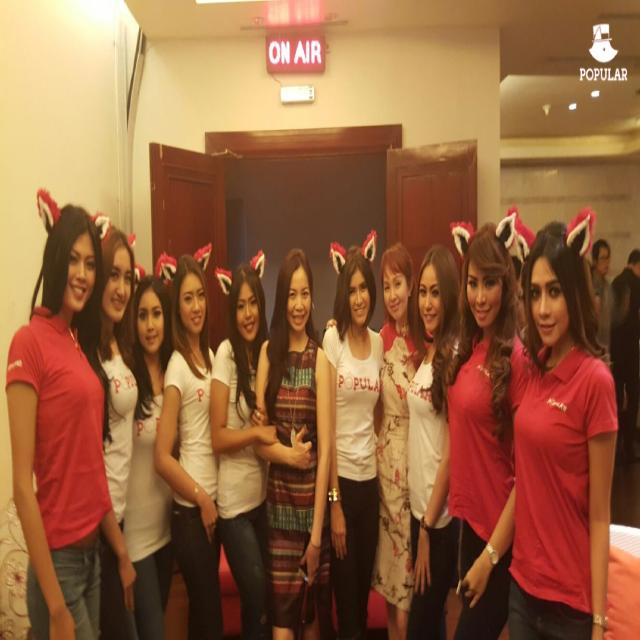body: (4, 185, 117, 639), (504, 203, 621, 639), (445, 220, 530, 637), (252, 242, 335, 639), (207, 247, 282, 639), (319, 226, 389, 639), (151, 252, 225, 639), (404, 242, 462, 640), (369, 239, 425, 640), (120, 272, 181, 640), (96, 225, 142, 640), (607, 245, 640, 470), (590, 237, 615, 354)
